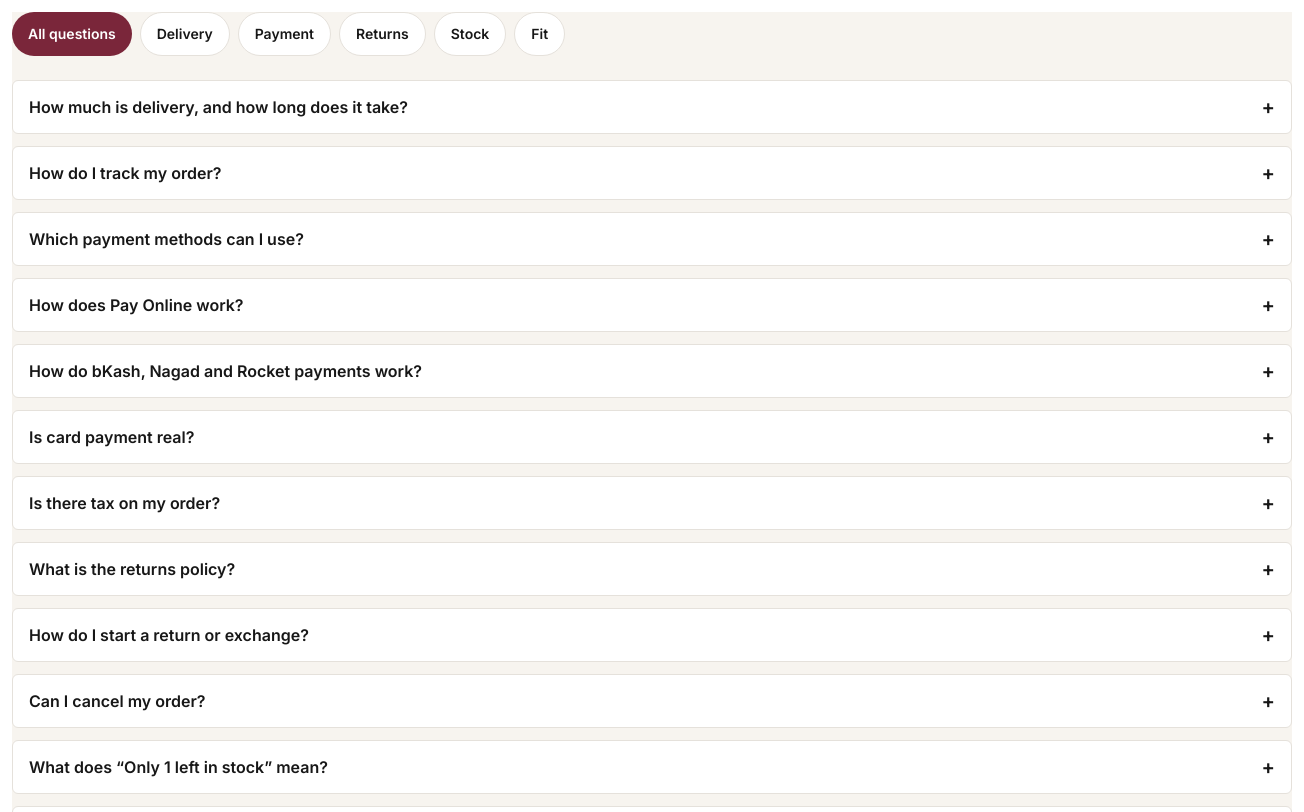
Scenario: Help / FAQ (S-5, T-50) › states the 7-day returns proposal and the cancel-before-Shipped rule
Click the button "What is the returns policy? +": x=132, y=569 [13,543,1291,595]
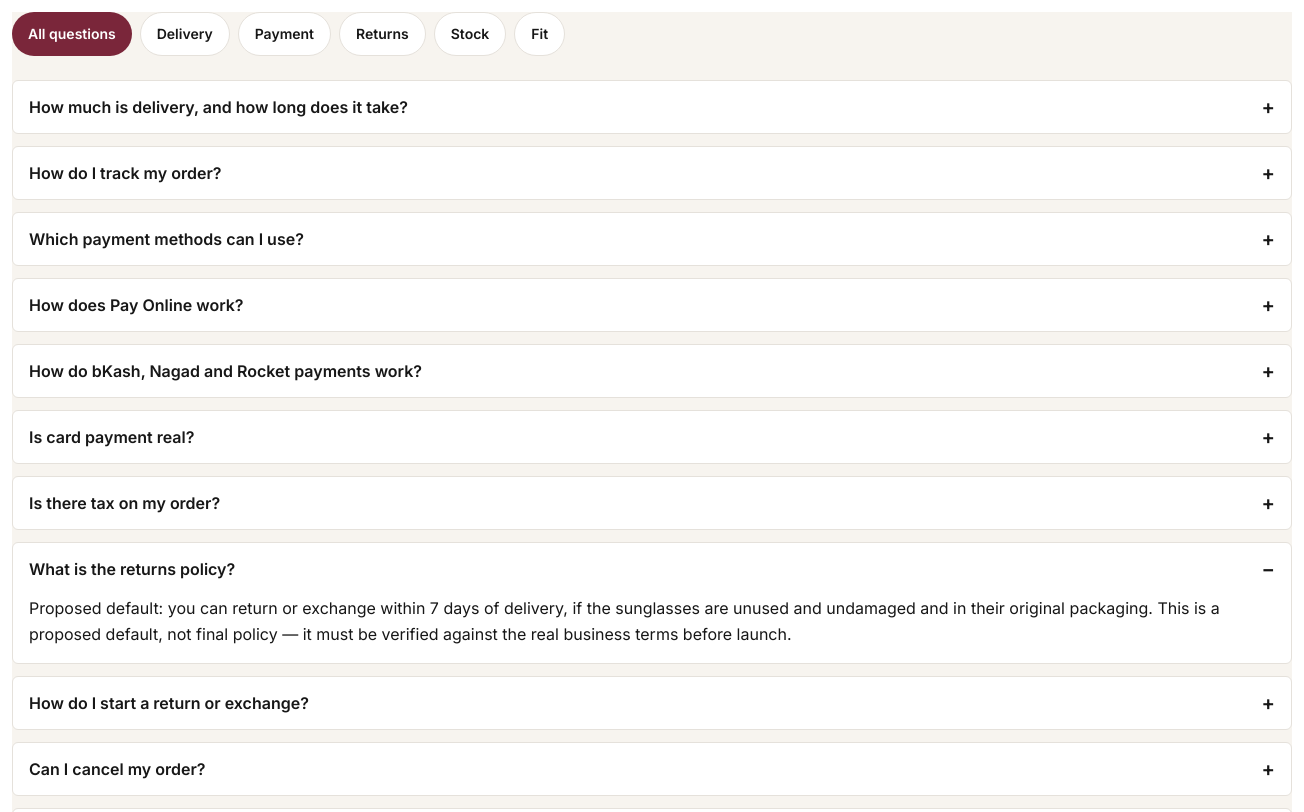
Result: the text "proposed default, not final policy" is shown at [29,598,1220,644]
Click the button "Can I cancel my order? +": x=117, y=769 [13,743,1291,795]
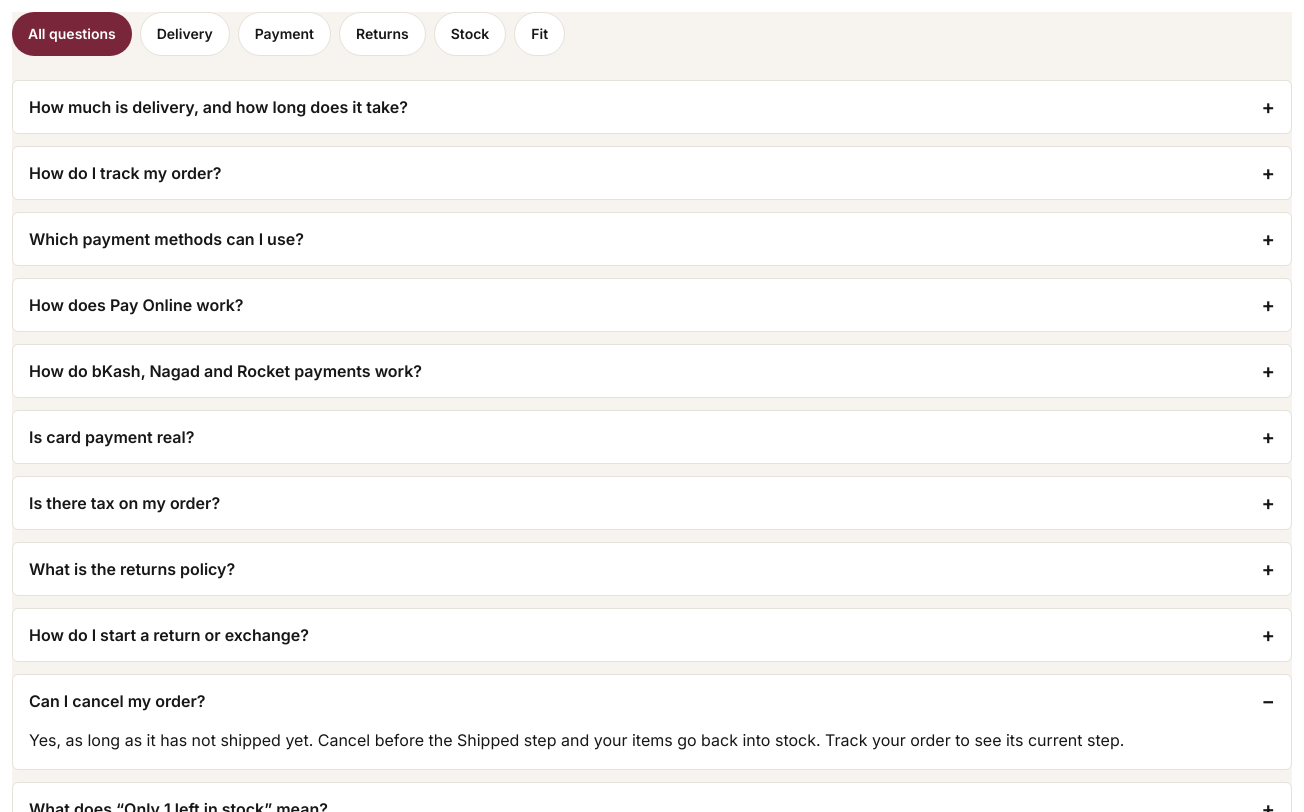
Result: the text "back into stock" is shown at [29,730,1124,750]
